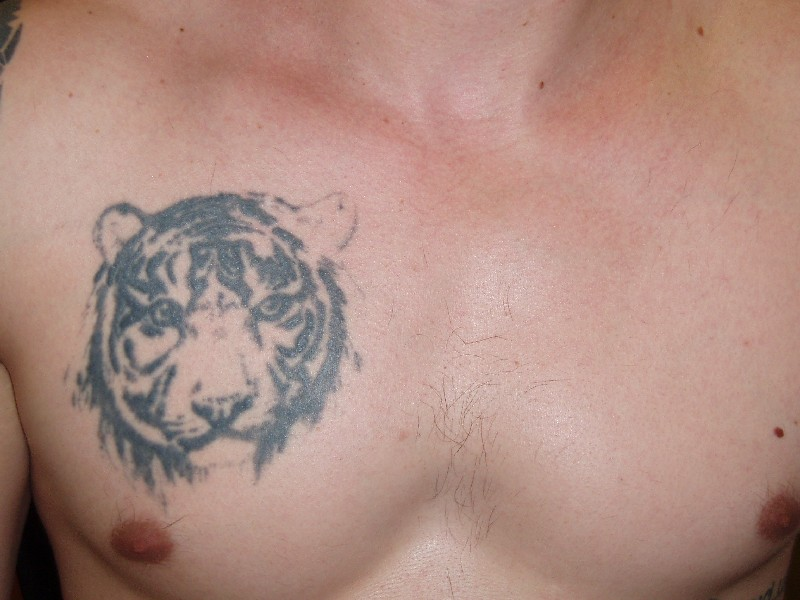tatu5_tigr: (35, 152, 412, 522)
